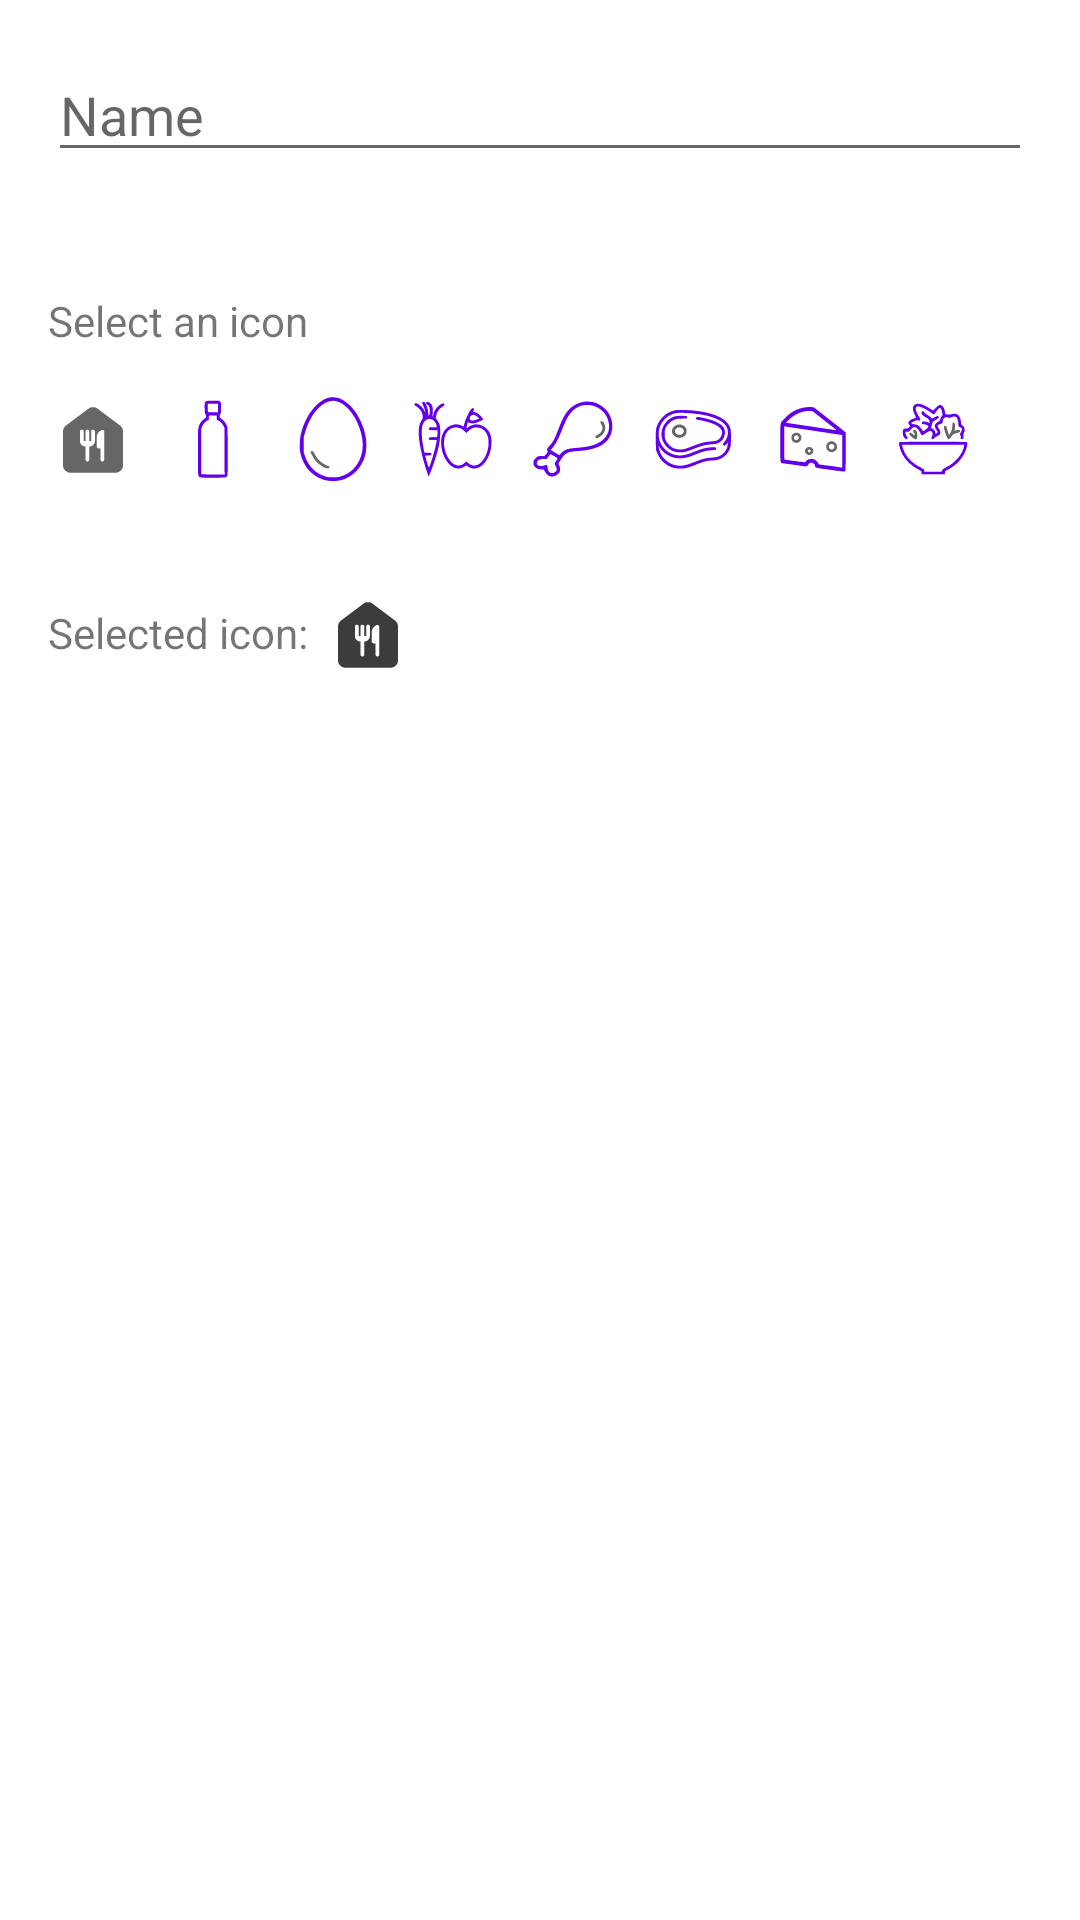

Where to tap for icons on this 1080*1920 app screen, as point (x, y):
bottle: point (213, 439)
cheese: point (813, 439)
chicken: point (573, 439)
egg: point (333, 439)
salad: point (933, 439)
steak: point (693, 439)
wege: point (453, 438)
